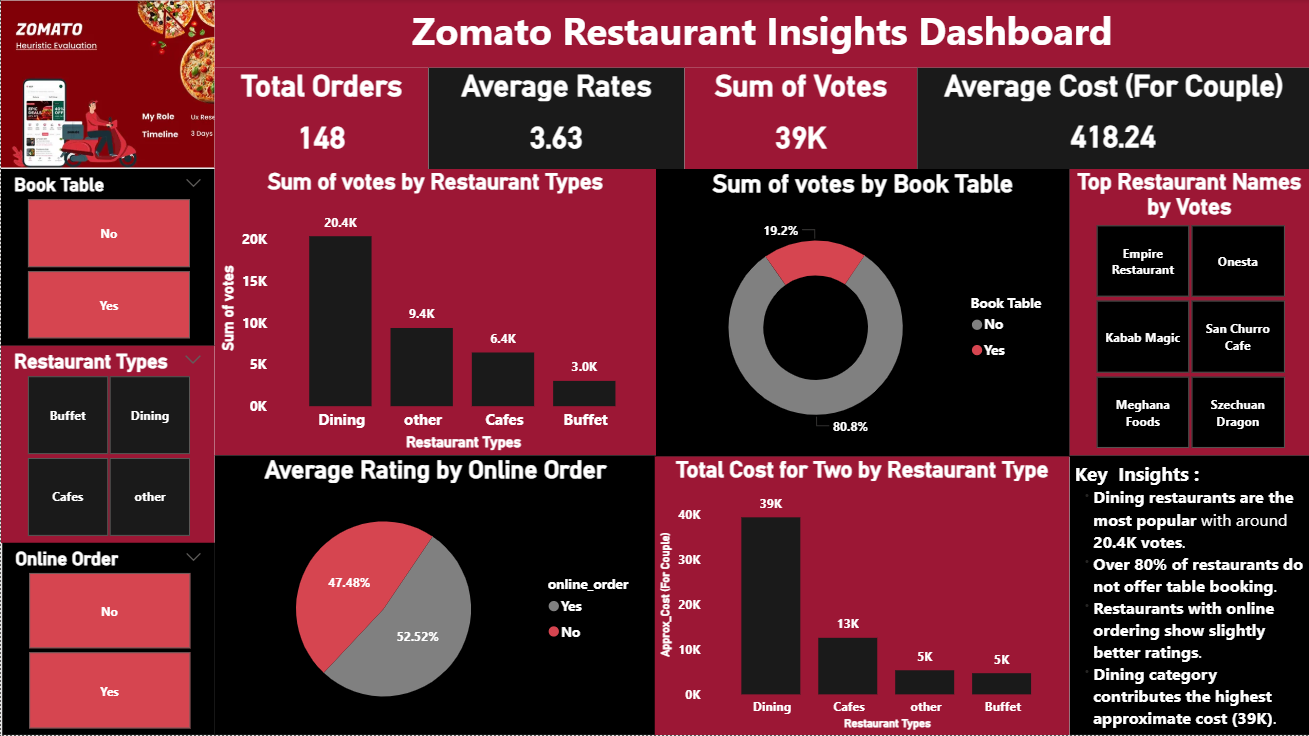

This screenshot's page, from the dashboard's own definition file:
{"tool":"powerbi","page":{"name":"Page 1","canvas":[1280,720],"ordinal":0},"visuals":[{"type":"textbox","box":[209.1,0,1071.2,67.3],"z":0},{"type":"image","box":[0,0,209.1,166.3],"z":1000},{"type":"card","title":"Total Orders","fields":{"Values":["CountNonNull(Zomato data.name)"]},"box":[209.1,67.3,209.1,99],"z":2000},{"type":"card","title":"Average Rates","fields":{"Values":["Avg(Zomato data.rate)"]},"box":[418.2,67.3,250.7,99],"z":3000},{"type":"card","title":"Sum of  Votes","fields":{"Values":["Sum(Zomato data.votes)"]},"box":[668.9,67.3,227.4,99],"z":4000},{"type":"card","title":"Average Cost (For Couple)","fields":{"Values":["Avg(Zomato data.approx_cost(for two people))"]},"box":[896.3,67.3,384,99],"z":5000},{"type":"slicer","fields":{"Values":["Zomato data.listed_in(type)"]},"box":[0,338.7,209.1,193.2],"z":6000},{"type":"slicer","fields":{"Values":["Zomato data.book_table"]},"box":[0,166.3,209.1,172.4],"z":7000},{"type":"slicer","fields":{"Values":["Zomato data.online_order"]},"box":[1.2,531.9,207.9,188.3],"z":8000},{"type":"clusteredColumnChart","title":"Sum of votes by Restaurant  Types","fields":{"Category":["Zomato data.listed_in(type)"],"Y":["Sum(Zomato data.votes)"]},"box":[209.1,166.3,431.7,280],"z":9000},{"type":"donutChart","title":"Sum of votes by Book Table","fields":{"Category":["Zomato data.book_table"],"Y":["Sum(Zomato data.votes)"]},"box":[640.8,166.3,404.8,281.3],"z":10000},{"type":"pieChart","title":"Average Rating by Online Order","fields":{"Category":["Zomato data.online_order"],"Y":["Avg(Zomato data.rate)"]},"box":[209.1,446.3,431.7,273.9],"z":11000},{"type":"columnChart","title":"Total Cost for Two by Restaurant Type","fields":{"Category":["Zomato data.listed_in(type)"],"Y":["Sum(Zomato data.approx_cost(for two people))"]},"box":[639.5,447.6,406,272.7],"z":12000},{"type":"textbox","box":[1045.5,446.3,234.8,273.9],"z":13000},{"type":"slicer","title":"Top Restaurant Names by Votes","fields":{"Values":["Zomato data.name"]},"box":[1046,166,234,280],"z":14000}]}

Visuals, with their boxes in screenshot pixels (x1, y1, x2, y2), scaled from the page's 1280x720 canvas onto the 1309x736 screenshot:
textbox: x1=214 y1=0 x2=1308 y2=69
image: x1=0 y1=0 x2=214 y2=170
"Total Orders" card: x1=214 y1=69 x2=428 y2=170
"Average Rates" card: x1=428 y1=69 x2=684 y2=170
"Sum of  Votes" card: x1=684 y1=69 x2=917 y2=170
"Average Cost (For Couple)" card: x1=917 y1=69 x2=1308 y2=170
slicer - Zomato data.listed_in(type): x1=0 y1=346 x2=214 y2=544
slicer - Zomato data.book_table: x1=0 y1=170 x2=214 y2=346
slicer - Zomato data.online_order: x1=1 y1=544 x2=214 y2=735
"Sum of votes by Restaurant  Types" clusteredColumnChart: x1=214 y1=170 x2=655 y2=456
"Sum of votes by Book Table" donutChart: x1=655 y1=170 x2=1069 y2=458
"Average Rating by Online Order" pieChart: x1=214 y1=456 x2=655 y2=735
"Total Cost for Two by Restaurant Type" columnChart: x1=654 y1=458 x2=1069 y2=735
textbox: x1=1069 y1=456 x2=1308 y2=735
"Top Restaurant Names by Votes" slicer: x1=1070 y1=170 x2=1308 y2=456
